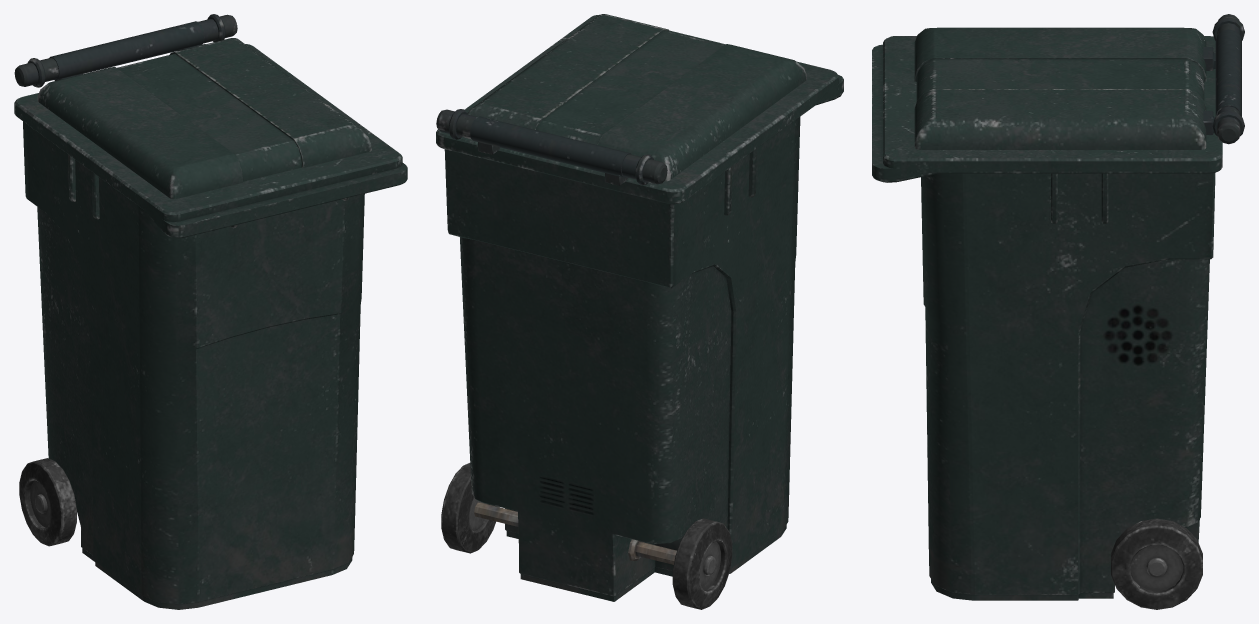
Rendered from public_bin__free.glb.
The picture shows the model from 3 angles, left to right: view 1: azimuth 30°, elevation 25°; view 2: azimuth 150°, elevation 25°; view 3: azimuth 270°, elevation 25°; orthographic projection. The views are drawn at different scales.
Visible parts, largest first — view 1: Cube_3_2, Cube, Cube_1, Cylinder, Cylinder_1_2; view 2: Cube_3_2, Cube, Cube_1, Cylinder_1_2, Cylinder, Cylinder_1; view 3: Cube_3_2, Cube, Cube_1, Cylinder_1_2, Cylinder.
Boxes of the visible parts, <box> form: Cube_3_2: <box>23,121,364,609</box>; Cube: <box>37,38,371,199</box>; Cube_1: <box>14,44,407,238</box>; Cylinder: <box>14,14,237,87</box>; Cylinder_1_2: <box>19,458,76,546</box>; Cube_3_2: <box>444,117,800,601</box>; Cube: <box>467,14,806,181</box>; Cube_1: <box>436,14,843,204</box>; Cylinder_1_2: <box>441,463,732,609</box>; Cylinder: <box>436,109,667,185</box>; Cylinder_1: <box>474,502,676,564</box>; Cube_3_2: <box>921,173,1215,600</box>; Cube: <box>914,27,1206,149</box>; Cube_1: <box>872,36,1222,182</box>; Cylinder_1_2: <box>1111,518,1202,609</box>; Cylinder: <box>1212,14,1244,144</box>.
Size of the model in its own units: 1.13 by 2 by 1.4.
Materials: 1 (1 with a texture image).
